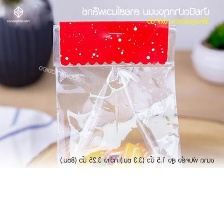snack: (45, 13, 189, 167)
